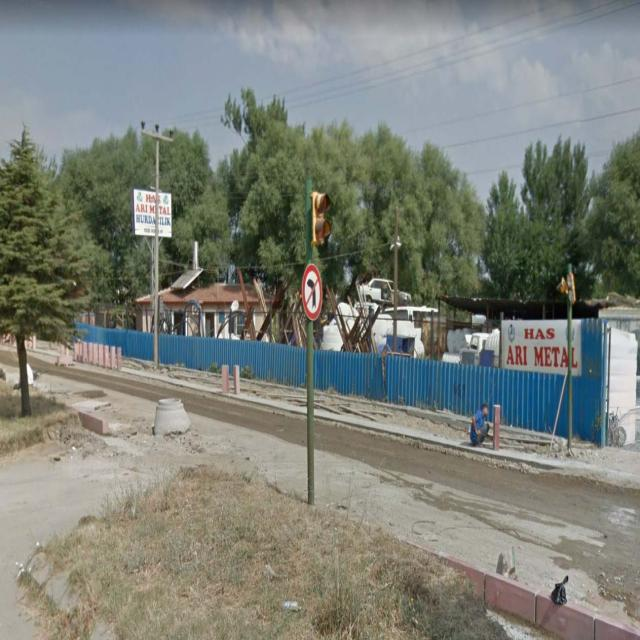soladonulmez: (304, 264, 323, 321)
